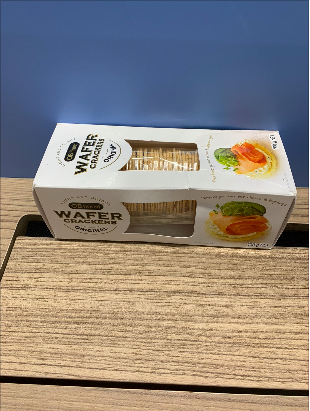Crackers_100-199g: (51, 134, 280, 240)
